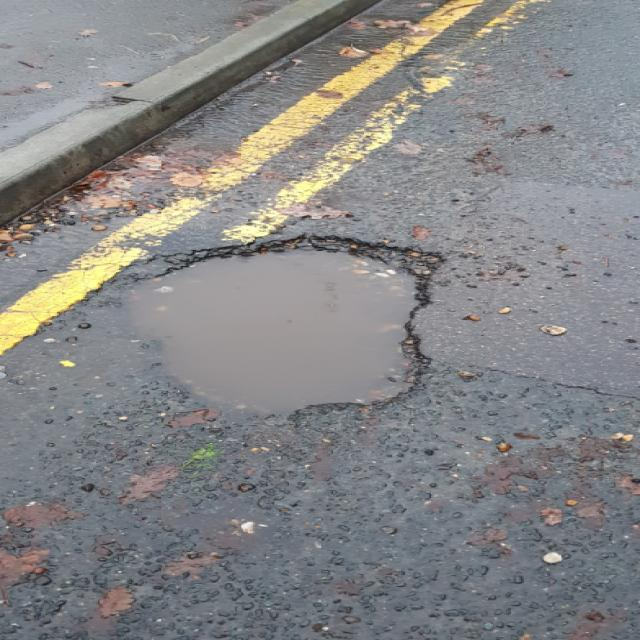Pothole: (110, 230, 450, 428)
